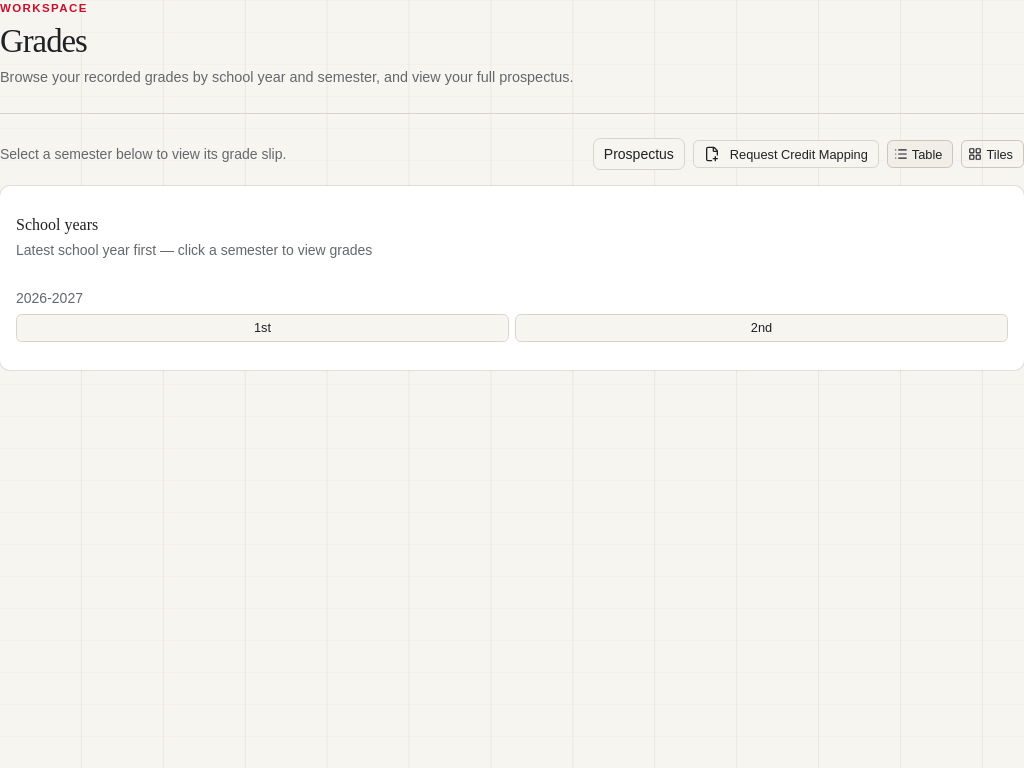
Test: StudentGradesWorkspace › switches to another semester's grade slip when a different semester is clicked
The image size is (1024, 768).
Note: Open the 2nd semester modal first
Click the button "2nd" at x=762, y=328, box [515,314,1008,342]
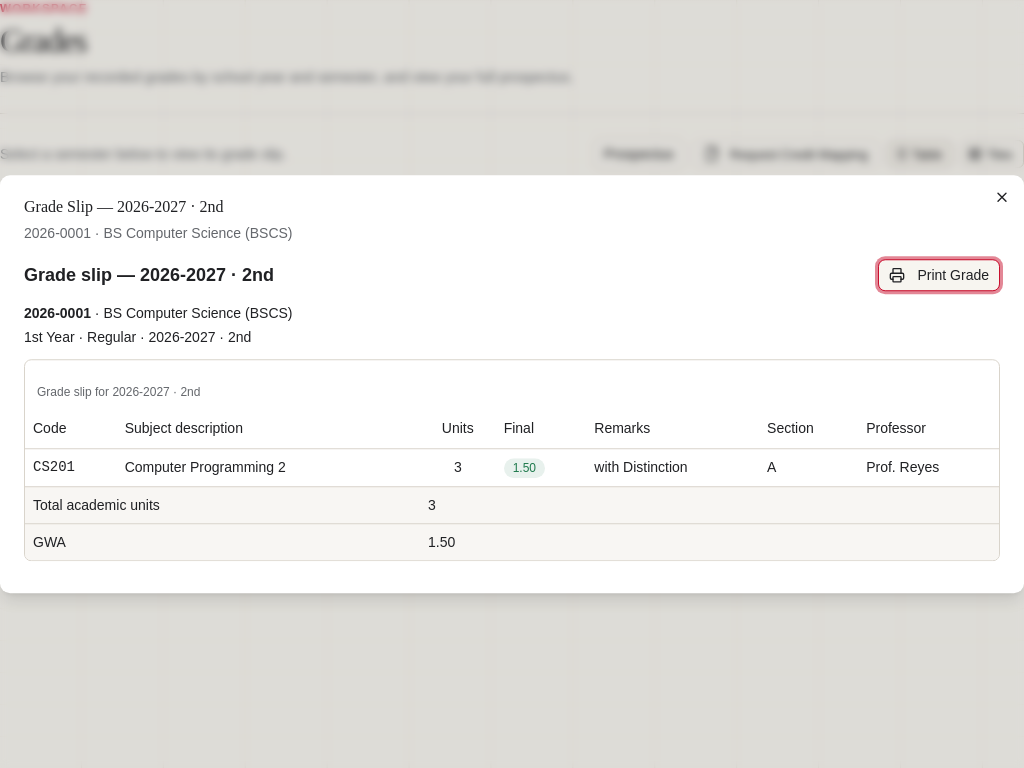
Now the text "CS201" is shown, box [25,448,117,486]
Note: Close the dialog
Press Escape
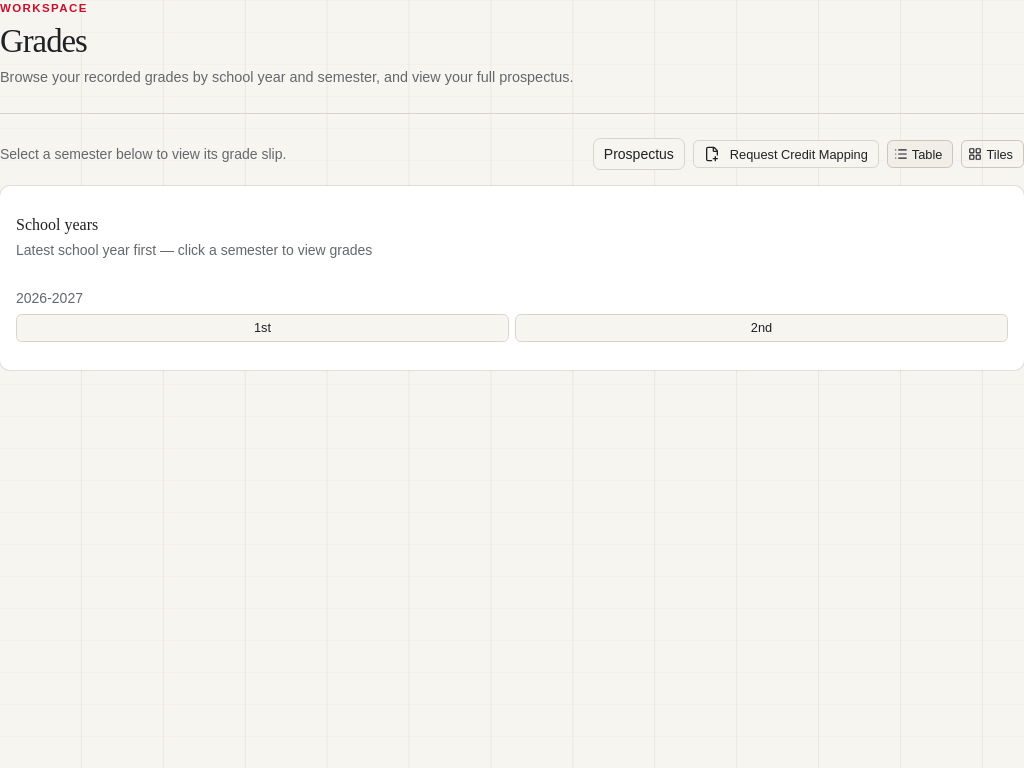
Now the text "CS201" is gone
Note: Open the 1st semester modal
Click the button "1st" at x=262, y=328, box [16,314,509,342]
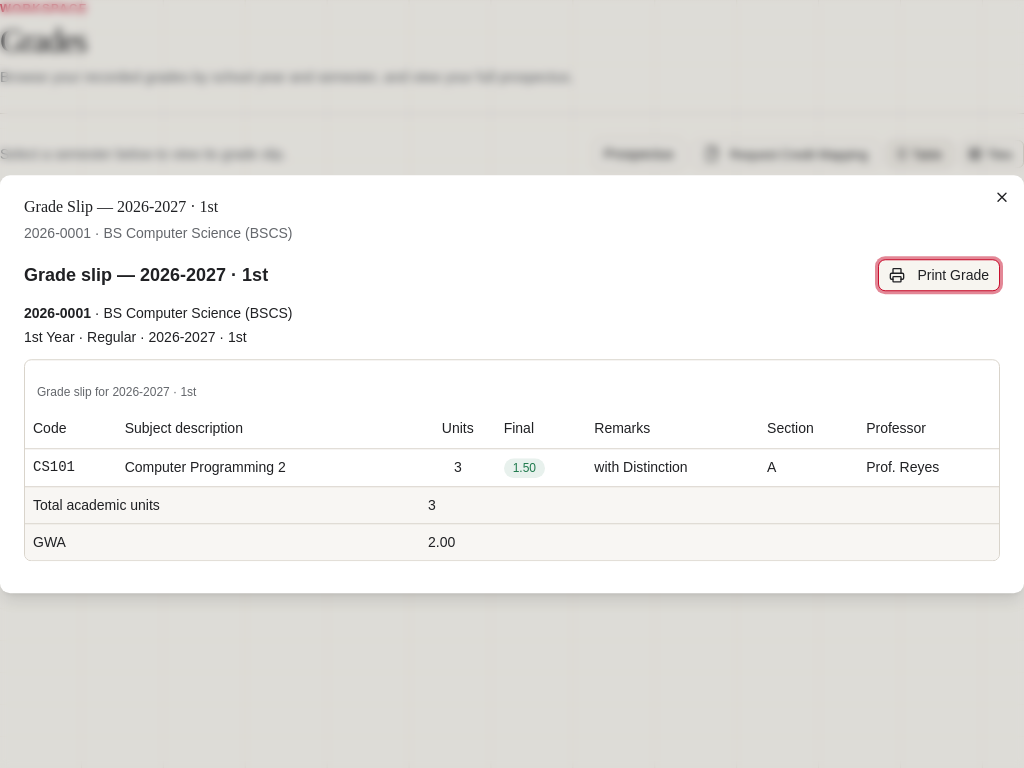
Expected: the text "CS201" is not shown
Now the text "CS101" is shown, box [25,448,117,486]
